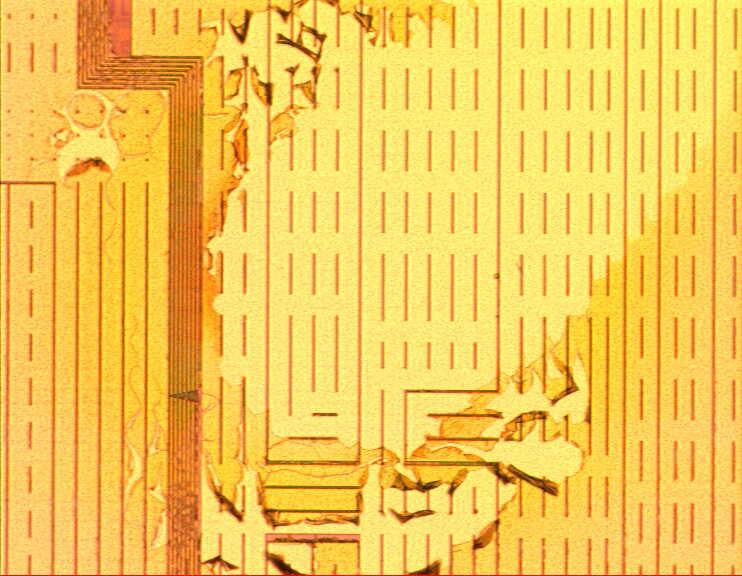COATING BAD: (32, 1, 742, 576)
